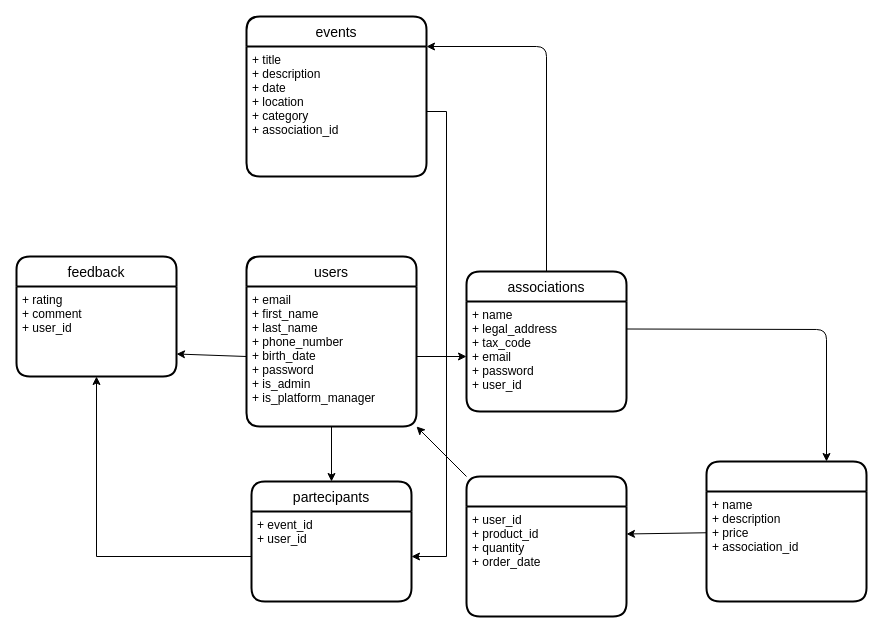
Image size: 883x633. Some labels were removed from this diagram. The shapes that lost their labels are listed below. From the top down, each one's box as (x1, y1, x2, y2) in pixels, then its label:
(465, 475, 627, 617): orders
(705, 460, 867, 602): products
